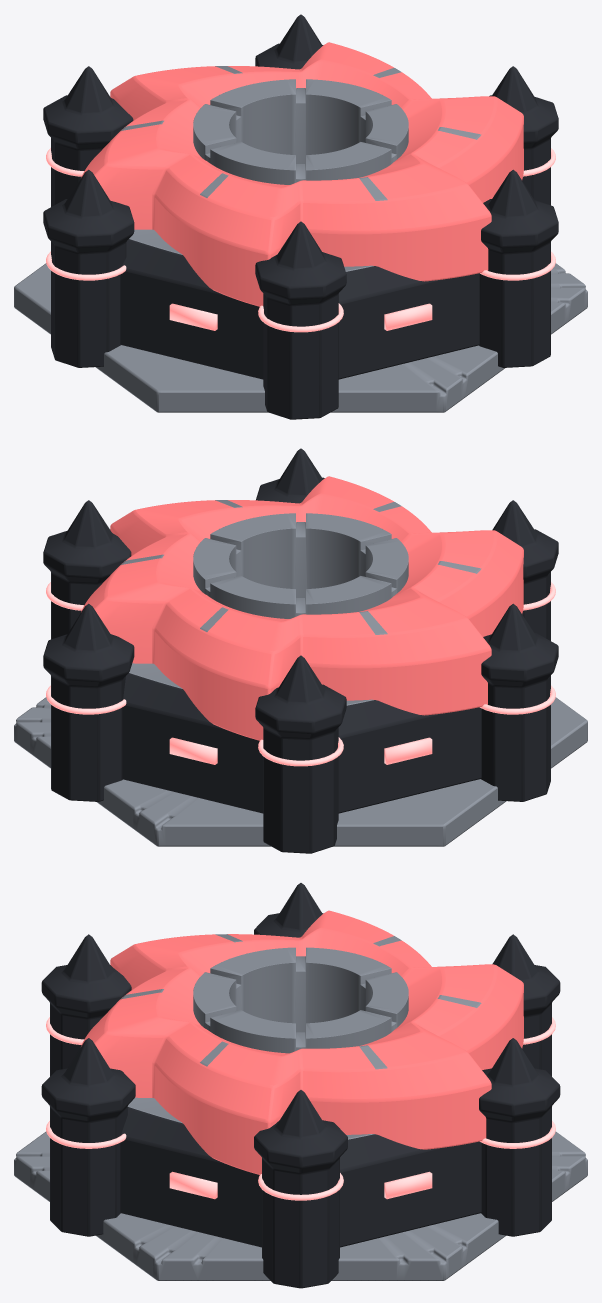
The model's file is bastion.glb.
The picture shows the model from 3 angles, top to bottom: view 1: azimuth 30°, elevation 25°; view 2: azimuth 150°, elevation 25°; view 3: azimuth 270°, elevation 25°; orthographic projection.
Visible parts, largest first — view 1: Ratsche.003, Mauer, Kern.003, Grundplatte.002, Turm.010, Turm.009, Turm.011, Turm.008, Turm.006, Turm.007, Mauerschlitz.003, Mauerschlitz.004 (+3 smaller); view 2: Ratsche.003, Mauer, Kern.003, Grundplatte.002, Turm.008, Turm.007, Turm.009, Turm.006, Turm.010, Turm.011, Mauerschlitz.001, Mauerschlitz.002 (+3 smaller); view 3: Ratsche.003, Mauer, Kern.003, Grundplatte.002, Turm.006, Turm.011, Turm.007, Turm.010, Turm.008, Turm.009, Mauerschlitz, Mauerschlitz.005 (+3 smaller).
Boxes of the visible parts, x1,y1,x2,y2 form: Ratsche.003: [81, 42, 523, 306]; Mauer: [120, 229, 479, 379]; Kern.003: [193, 79, 408, 184]; Grundplatte.002: [14, 263, 587, 412]; Turm.010: [255, 221, 346, 419]; Turm.009: [43, 169, 134, 367]; Turm.011: [479, 169, 558, 367]; Turm.008: [43, 66, 133, 206]; Turm.006: [489, 66, 558, 205]; Turm.007: [255, 14, 323, 69]; Mauerschlitz.003: [169, 303, 217, 330]; Mauerschlitz.004: [384, 303, 432, 330]; Ratsche.003: [81, 476, 523, 740]; Mauer: [122, 663, 481, 813]; Kern.003: [193, 513, 408, 618]; Grundplatte.002: [14, 697, 587, 846]; Turm.008: [255, 655, 346, 853]; Turm.007: [43, 603, 134, 801]; Turm.009: [481, 603, 558, 801]; Turm.006: [43, 500, 131, 639]; Turm.010: [492, 500, 558, 640]; Turm.011: [256, 448, 324, 503]; Mauerschlitz.001: [169, 737, 217, 764]; Mauerschlitz.002: [384, 737, 432, 764]; Ratsche.003: [81, 910, 523, 1174]; Mauer: [120, 1097, 481, 1247]; Kern.003: [193, 947, 408, 1053]; Grundplatte.002: [14, 1131, 587, 1280]; Turm.006: [254, 1090, 347, 1288]; Turm.011: [41, 1038, 135, 1236]; Turm.007: [479, 1038, 560, 1236]; Turm.010: [41, 934, 131, 1076]; Turm.008: [492, 934, 560, 1076]; Turm.009: [254, 883, 323, 937]; Mauerschlitz: [384, 1171, 432, 1199]; Mauerschlitz.005: [169, 1171, 217, 1199].
Size of the model in its own units: 0.3576 by 0.1287 by 0.3514.
